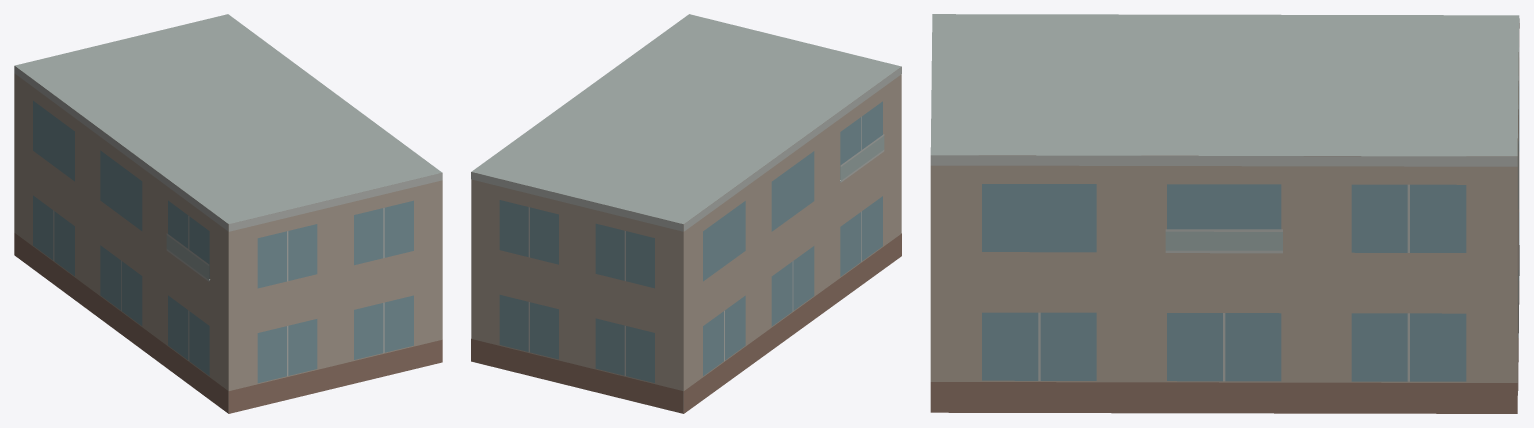
Rendered from survey-upis-32915694.glb.
3 views of the same model, side by side, from view 1: azimuth 30°, elevation 25°; view 2: azimuth 150°, elevation 25°; view 3: azimuth 270°, elevation 25° (orthographic). The views are drawn at different scales.
Parts seen in each view (by area): view 1: survey-upis-32915694.tmp; view 2: survey-upis-32915694.tmp; view 3: survey-upis-32915694.tmp.
Part boxes in pixels (x1,y1,x2,y2): survey-upis-32915694.tmp: (14, 14, 442, 413); survey-upis-32915694.tmp: (471, 14, 901, 413); survey-upis-32915694.tmp: (930, 14, 1519, 413).
Bounding box in the file's own units: 7.29 × 6.1 × 12.65.
